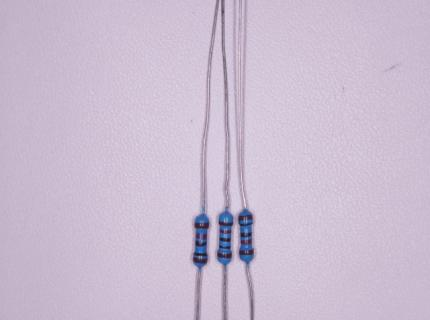Black band: (194, 241, 207, 248), (239, 221, 253, 227), (240, 232, 253, 238), (194, 251, 208, 256), (219, 237, 231, 242), (219, 244, 231, 249)
Brown band: (194, 222, 210, 229), (217, 251, 233, 258), (238, 214, 253, 221), (193, 256, 208, 263), (239, 249, 255, 255), (219, 221, 234, 226)
Red band: (195, 233, 207, 240), (240, 239, 253, 244), (219, 229, 231, 234)
